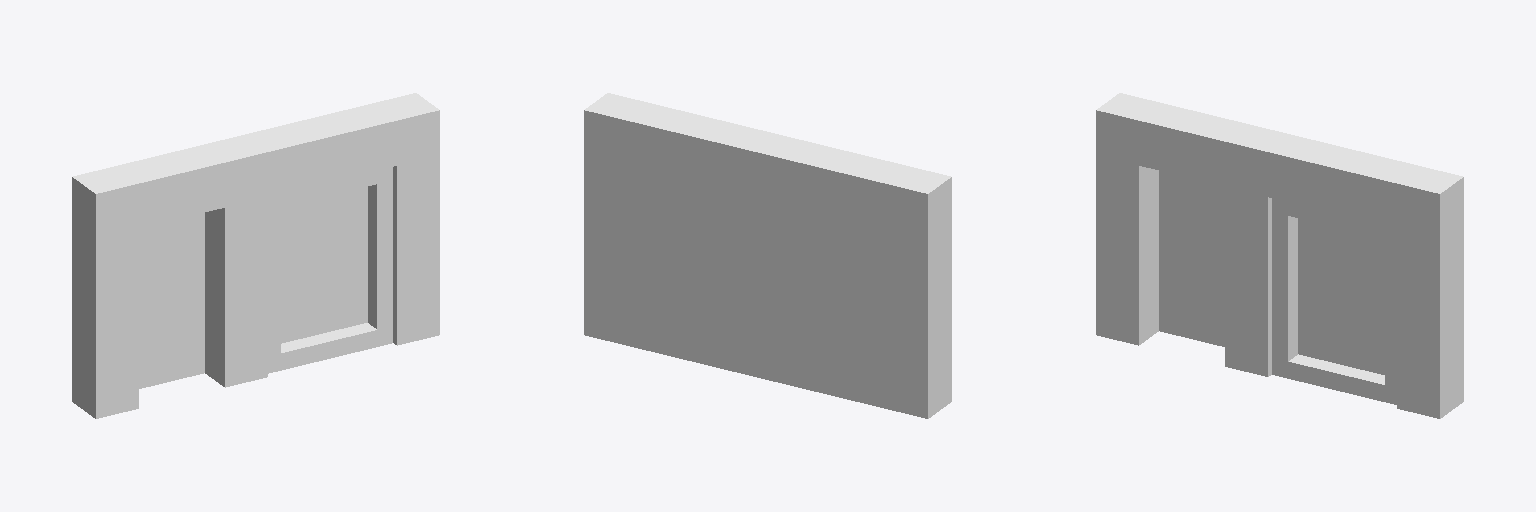
The model's file is window_door_white.obj.
3 views of the same model, side by side, from view 1: azimuth 30°, elevation 25°; view 2: azimuth 150°, elevation 25°; view 3: azimuth 330°, elevation 25° (orthographic).
Visible parts, largest first — view 1: building-door-window, window-white-large; view 2: building-door-window; view 3: building-door-window, window-white-large.
Boxes of the visible parts, x1,y1,x2,y2 form: building-door-window: [72, 93, 439, 418]; window-white-large: [268, 167, 392, 373]; building-door-window: [584, 93, 951, 418]; building-door-window: [1096, 93, 1463, 418]; window-white-large: [1272, 198, 1396, 404].
Bounding box in the file's own units: 1 × 0.625 × 0.1198.